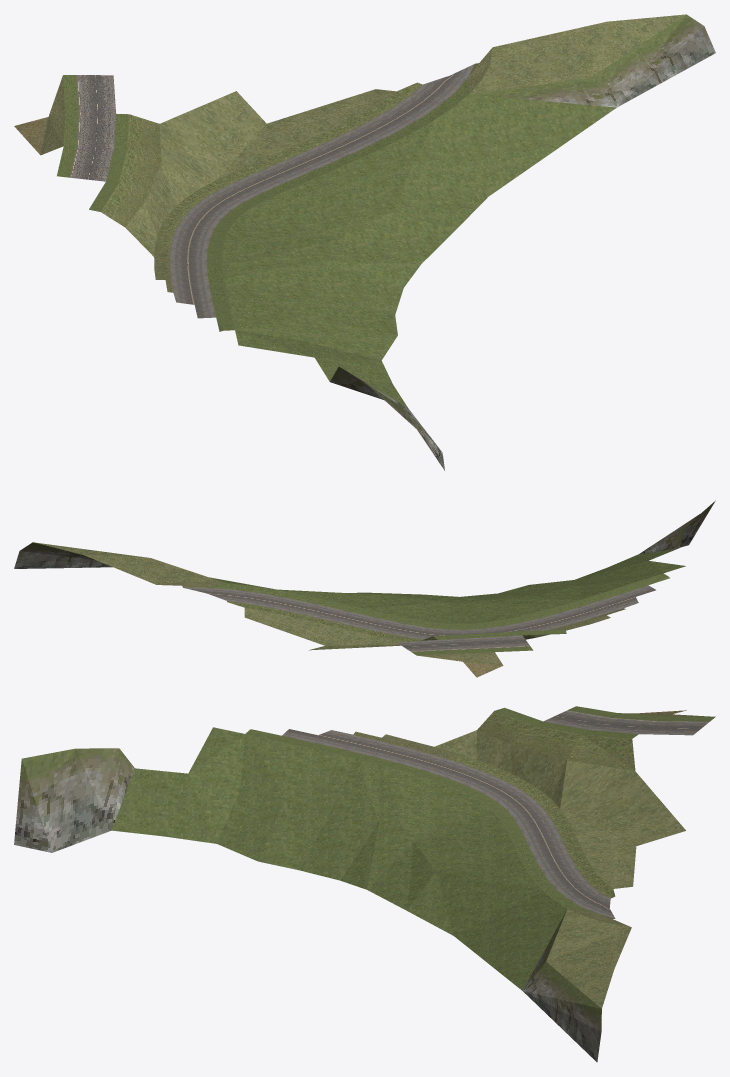
File: nw_lodbit_17.obj
3 views of the same model, one above another, from view 1: azimuth 30°, elevation 25°; view 2: azimuth 150°, elevation 25°; view 3: azimuth 270°, elevation 25° (orthographic). The views are drawn at different scales.
Visible parts, largest first — view 1: nw_lodbit_17; view 2: nw_lodbit_17; view 3: nw_lodbit_17.
Part boxes in pixels (x1,y1,x2,y2): nw_lodbit_17: (14,14,715,470); nw_lodbit_17: (14,500,715,677); nw_lodbit_17: (14,706,715,1062).
Size of the model in its own units: 253 by 45.72 by 238.
Materials: 10 (10 with a texture image).
